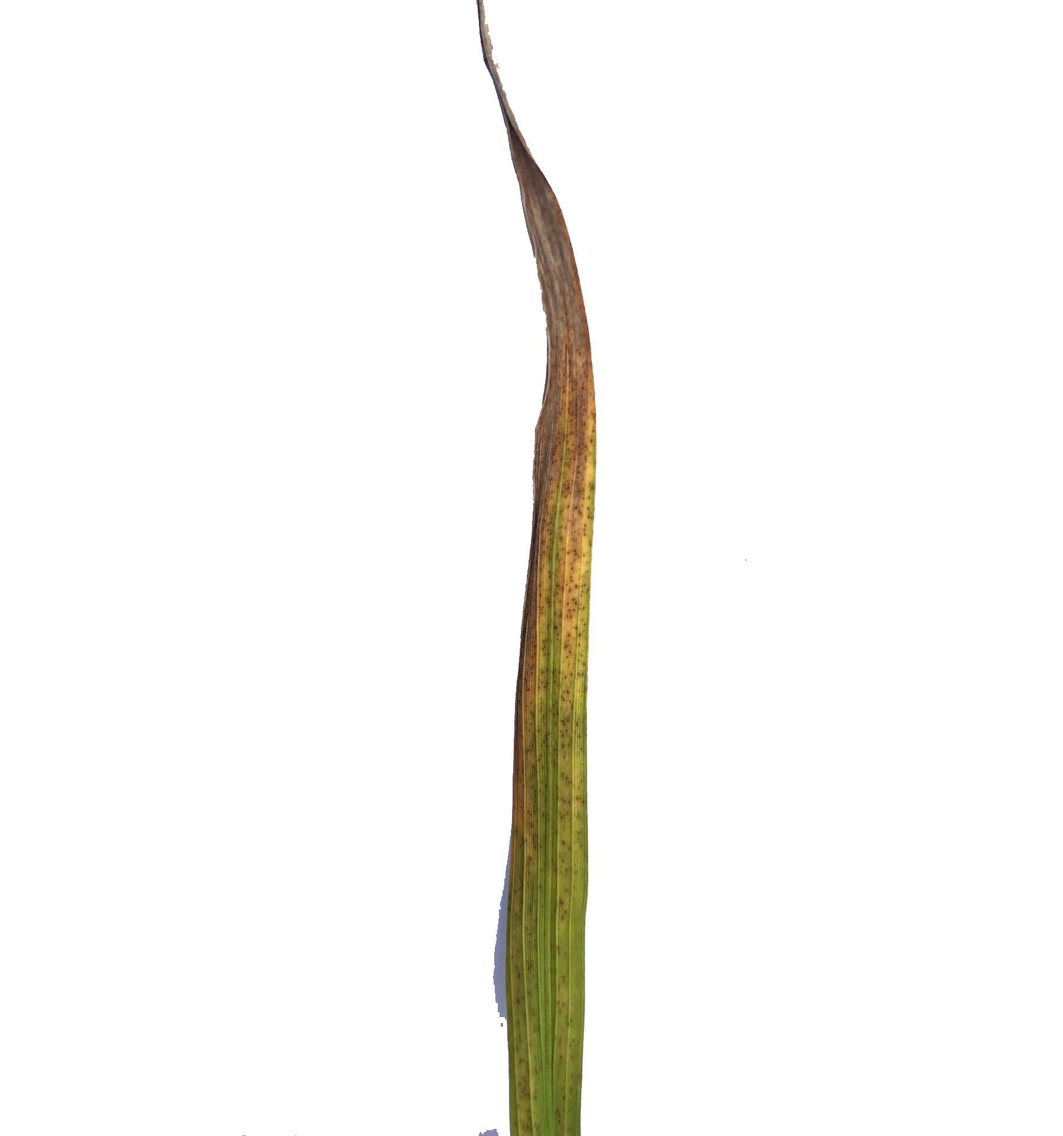Rice blast: (478, 5, 598, 415), (539, 404, 595, 718)
Tungro: (515, 719, 585, 1136)
